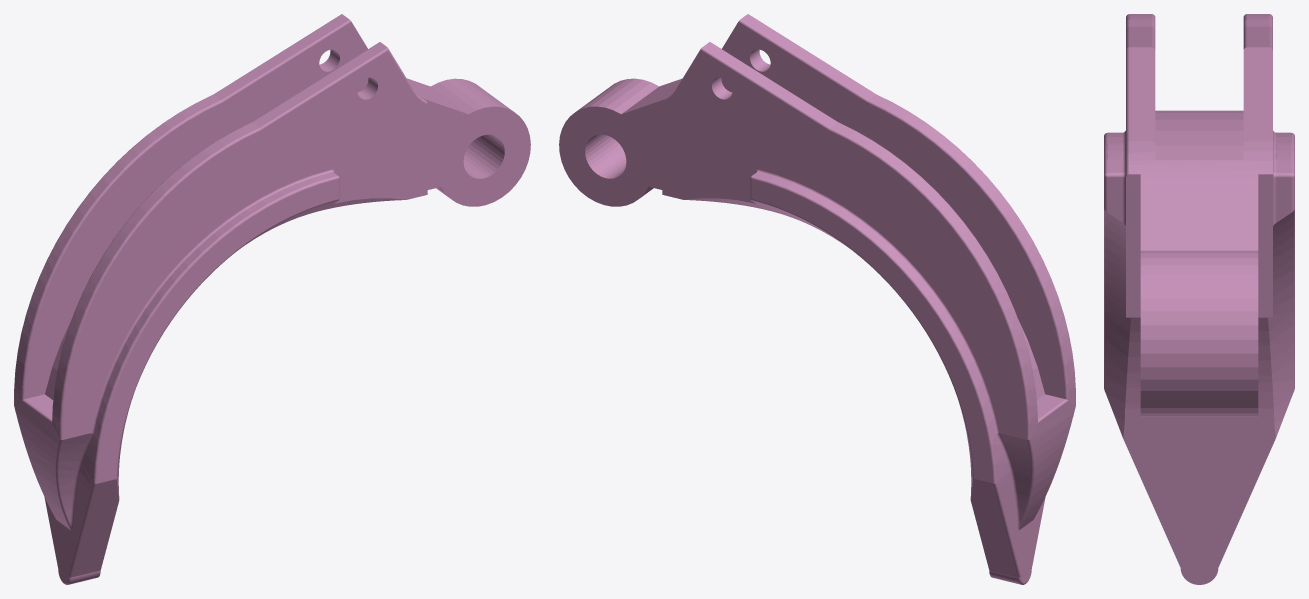
Rendered from case-03_lib00002.glb.
3 views of the same model, side by side, from view 1: azimuth 30°, elevation 25°; view 2: azimuth 150°, elevation 25°; view 3: azimuth 270°, elevation 25° (orthographic). The views are drawn at different scales.
Parts seen in each view (by area): view 1: lib00002; view 2: lib00002; view 3: lib00002.
Boxes of the visible parts, <box> form: lib00002: <box>14,14,530,584</box>; lib00002: <box>559,14,1075,584</box>; lib00002: <box>1104,14,1294,584</box>.
Size of the model in its own units: 78 by 75.36 by 17.6.
